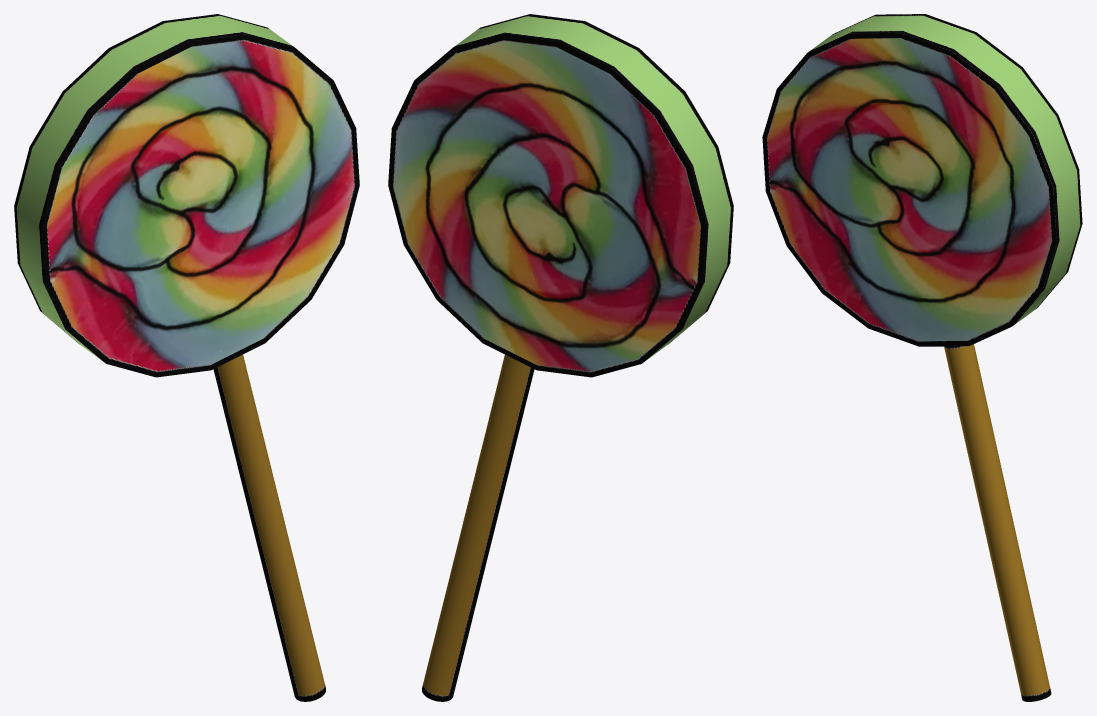
The model's file is lollipop.FBX.
3 renders of one model, left to right at view 1: azimuth 30°, elevation 25°; view 2: azimuth 150°, elevation 25°; view 3: azimuth 330°, elevation 25°, orthographic. The views are drawn at different scales.
Parts seen in each view (by area): view 1: Cylinder001; view 2: Cylinder001; view 3: Cylinder001.
Part boxes in pixels (x1=…): Cylinder001: x1=14, y1=14, x2=359, y2=701; Cylinder001: x1=388, y1=14, x2=733, y2=701; Cylinder001: x1=762, y1=14, x2=1082, y2=701.
Bounding box in the file's own units: 223 × 468 × 33.84.
